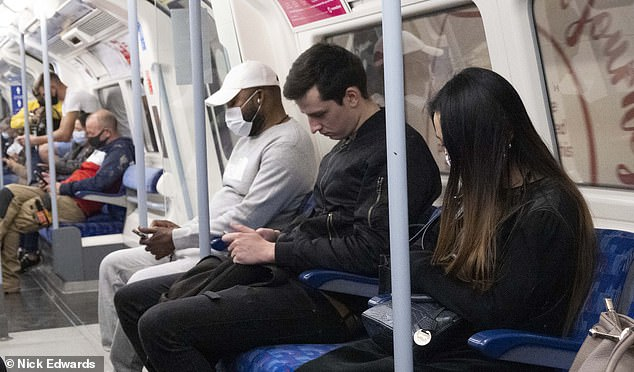with_mask: (225, 95, 262, 137)
without_mask: (298, 96, 345, 145)
